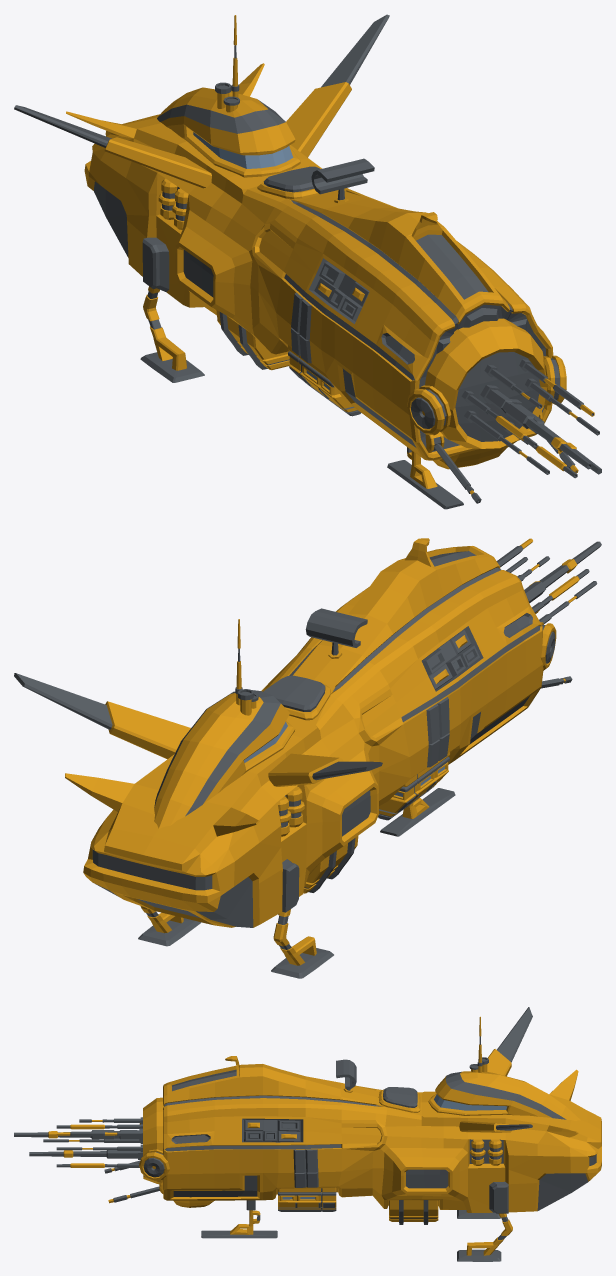
File: Dropship_05_Yellow.fbx
3 views of the same model, one above another, from view 1: azimuth 30°, elevation 25°; view 2: azimuth 150°, elevation 25°; view 3: azimuth 270°, elevation 25° (orthographic). The views are drawn at different scales.
Visible parts, largest first — view 1: Dropship_05_Yellow; view 2: Dropship_05_Yellow; view 3: Dropship_05_Yellow.
Part boxes in pixels (x1,y1,x2,y2): Dropship_05_Yellow: (14,14,601,509); Dropship_05_Yellow: (14,538,601,978); Dropship_05_Yellow: (14,1007,601,1261).
Size of the model in its own units: 1028 by 878 by 2156.
3 materials, 3 textured.
